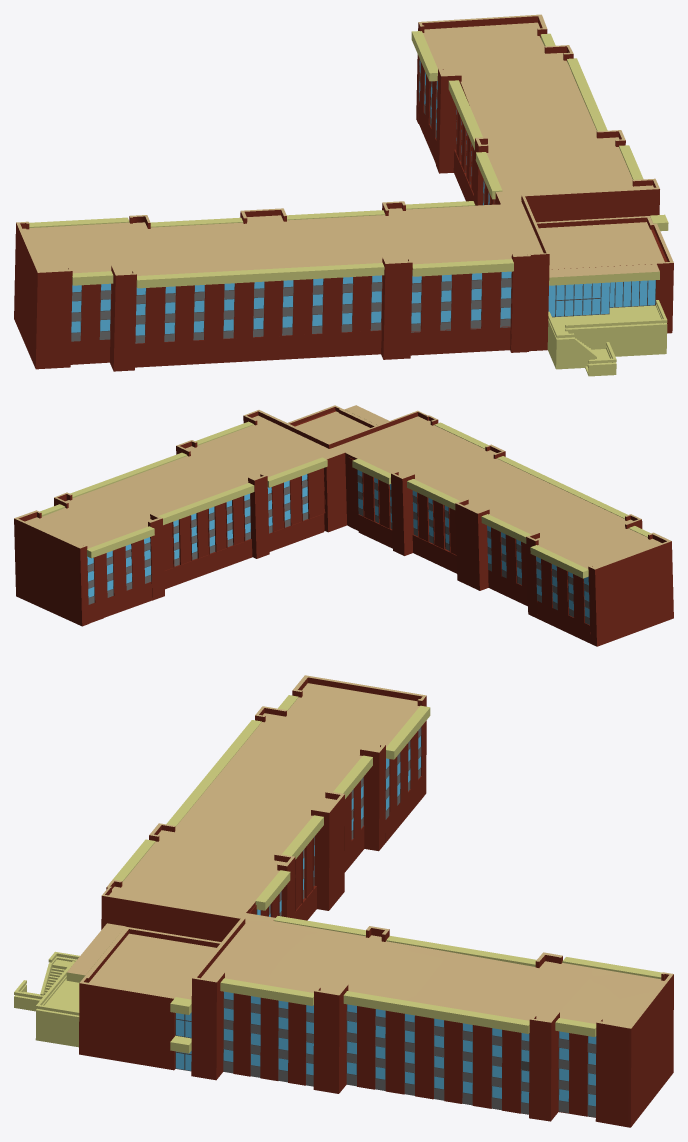
File: SusquehannaHall.obj
The picture shows the model from 3 angles, top to bottom: view 1: azimuth 30°, elevation 25°; view 2: azimuth 150°, elevation 25°; view 3: azimuth 270°, elevation 25°; orthographic projection. The views are drawn at different scales.
Visible parts, largest first — view 1: SM_Susq_Bldg, SM_Susq_Stairs, SM_Susq_Wndws; view 2: SM_Susq_Bldg, SM_Susq_Stairs, SM_Susq_Wndws; view 3: SM_Susq_Bldg, SM_Susq_Stairs, SM_Susq_Wndws.
Boxes of the visible parts, x1,y1,x2,y2 form: SM_Susq_Bldg: (14,14,673,371); SM_Susq_Stairs: (29,31,668,376); SM_Susq_Wndws: (71,59,655,343); SM_Susq_Bldg: (14,405,673,646); SM_Susq_Stairs: (39,405,650,578); SM_Susq_Wndws: (87,470,589,624); SM_Susq_Bldg: (79,675,673,1127); SM_Susq_Stairs: (14,695,661,1053); SM_Susq_Wndws: (175,727,596,1117).
Bounding box in the file's own units: 9106 × 1502 × 7557.
